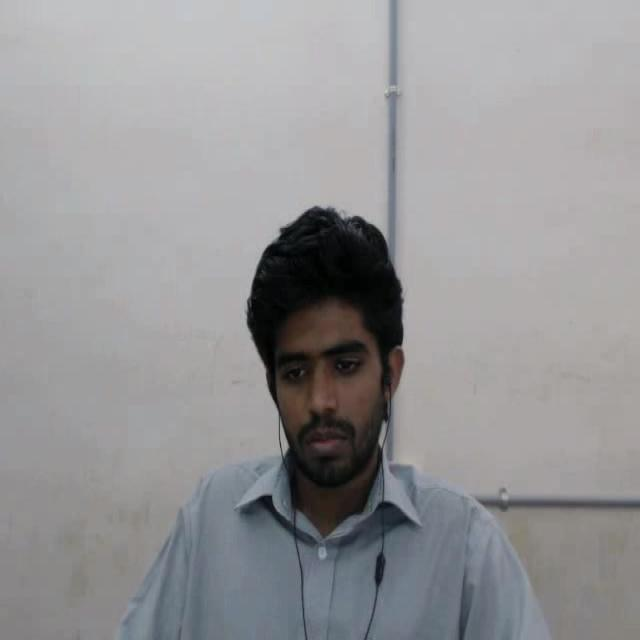Bored: (228, 182, 424, 529)
